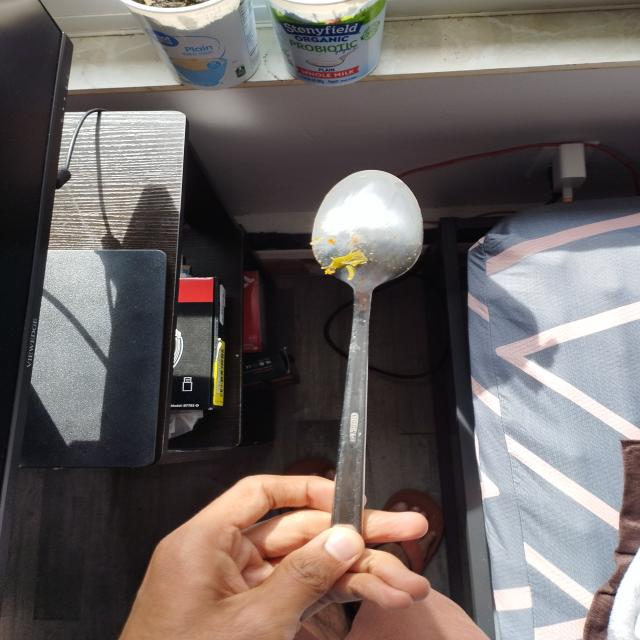Spoon: (286, 160, 434, 564)
